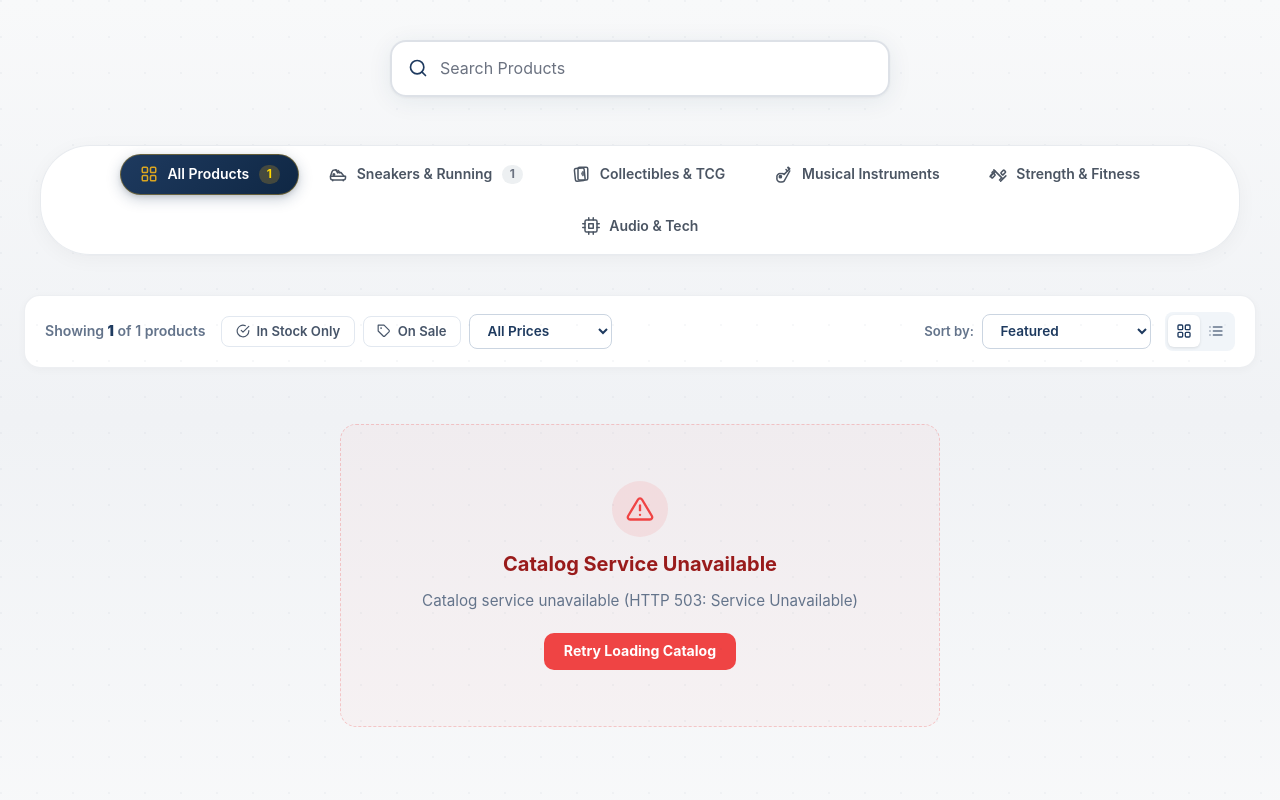
Test: Product Catalog Resilience & Error States › renders resilient error state with retry button on API failure
Expected: the element with test id "products-error-state" is shown, left=340, top=424, right=940, bottom=727
Expected: the heading "Catalog Service Unavailable" is shown, left=503, top=553, right=777, bottom=576
Click the button "Retry Loading Catalog" at (640, 652), box left=544, top=633, right=736, bottom=670
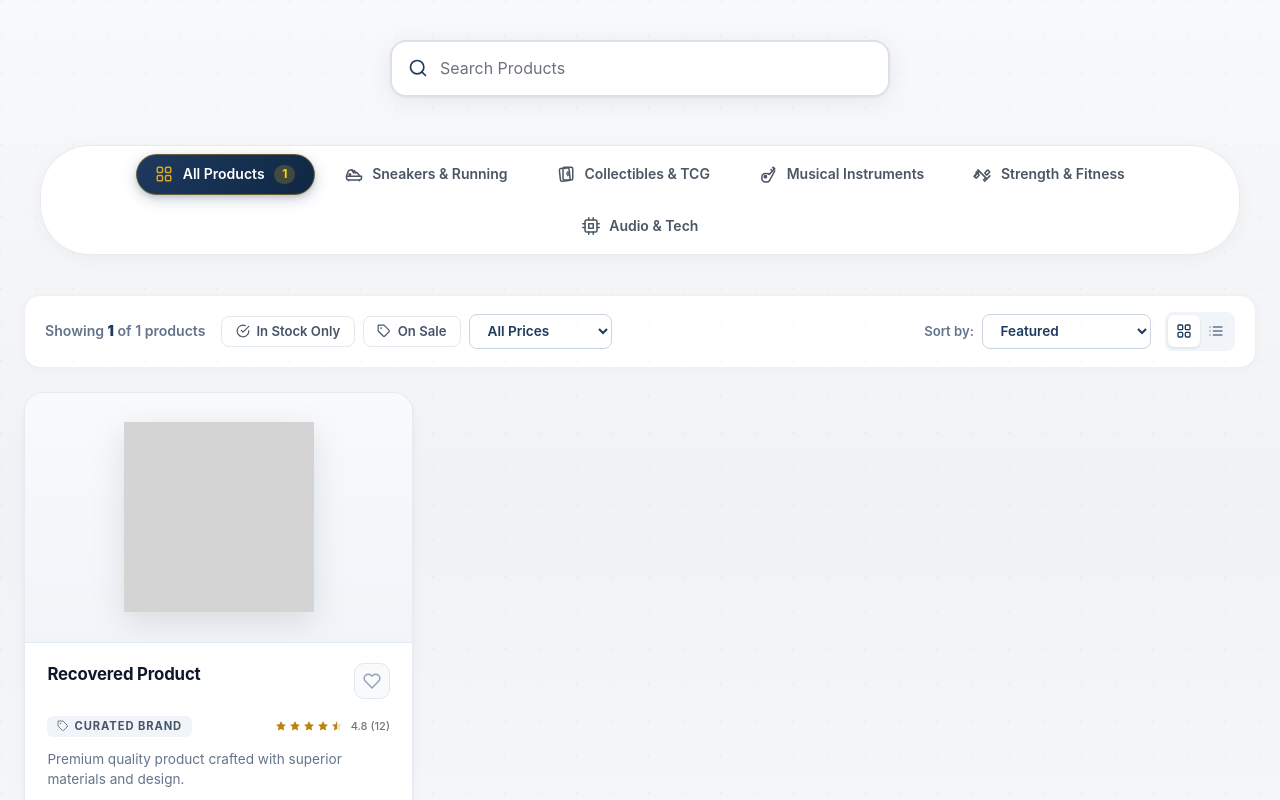
Result: the heading "Recovered Product" is shown at left=47, top=664, right=201, bottom=684
